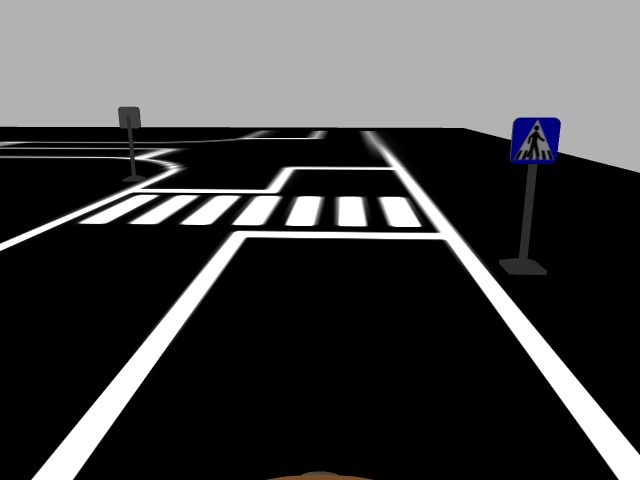crosswalk: (505, 115, 564, 167)
